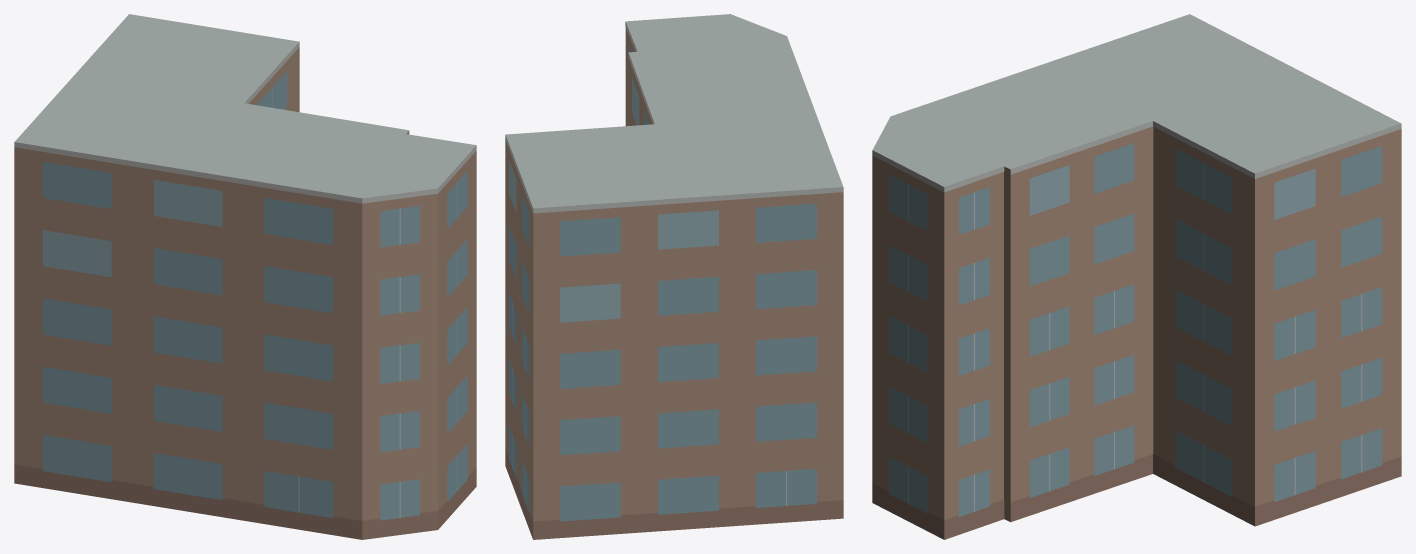
File: survey-upis-32592146.glb
3 renders of one model, left to right at view 1: azimuth 30°, elevation 25°; view 2: azimuth 150°, elevation 25°; view 3: azimuth 270°, elevation 25°, orthographic. The views are drawn at different scales.
Visible parts, largest first — view 1: survey-upis-32592146.tmp; view 2: survey-upis-32592146.tmp; view 3: survey-upis-32592146.tmp.
Boxes of the visible parts, left/top/right/bottom form: survey-upis-32592146.tmp: left=14, top=14, right=476, bottom=539; survey-upis-32592146.tmp: left=505, top=14, right=843, bottom=539; survey-upis-32592146.tmp: left=872, top=14, right=1401, bottom=539.
Size of the model in its own units: 16.85 by 16 by 21.76.
